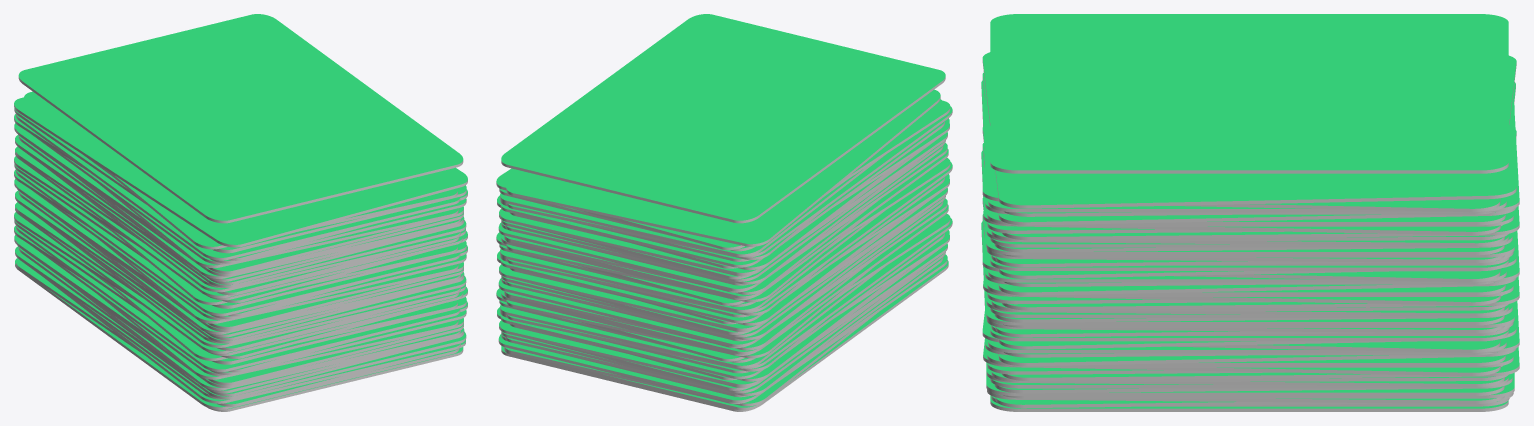
The model's file is cardFlipping.fbx.
3 renders of one model, left to right at view 1: azimuth 30°, elevation 25°; view 2: azimuth 150°, elevation 25°; view 3: azimuth 270°, elevation 25°, orthographic. The views are drawn at different scales.
Visible parts, largest first — view 1: CardBase.063, CardFlipping; view 2: CardBase.063, CardFlipping; view 3: CardBase.063, CardFlipping.
Boxes of the visible parts, x1=… form: CardBase.063: x1=14, y1=91, x2=467, y2=411; CardFlipping: x1=18, y1=14, x2=463, y2=223; CardBase.063: x1=496, y1=89, x2=952, y2=411; CardFlipping: x1=501, y1=14, x2=945, y2=223; CardBase.063: x1=981, y1=52, x2=1519, y2=411; CardFlipping: x1=990, y1=14, x2=1508, y2=173.
Bounding box in the file's own units: 531 × 360 × 727.
